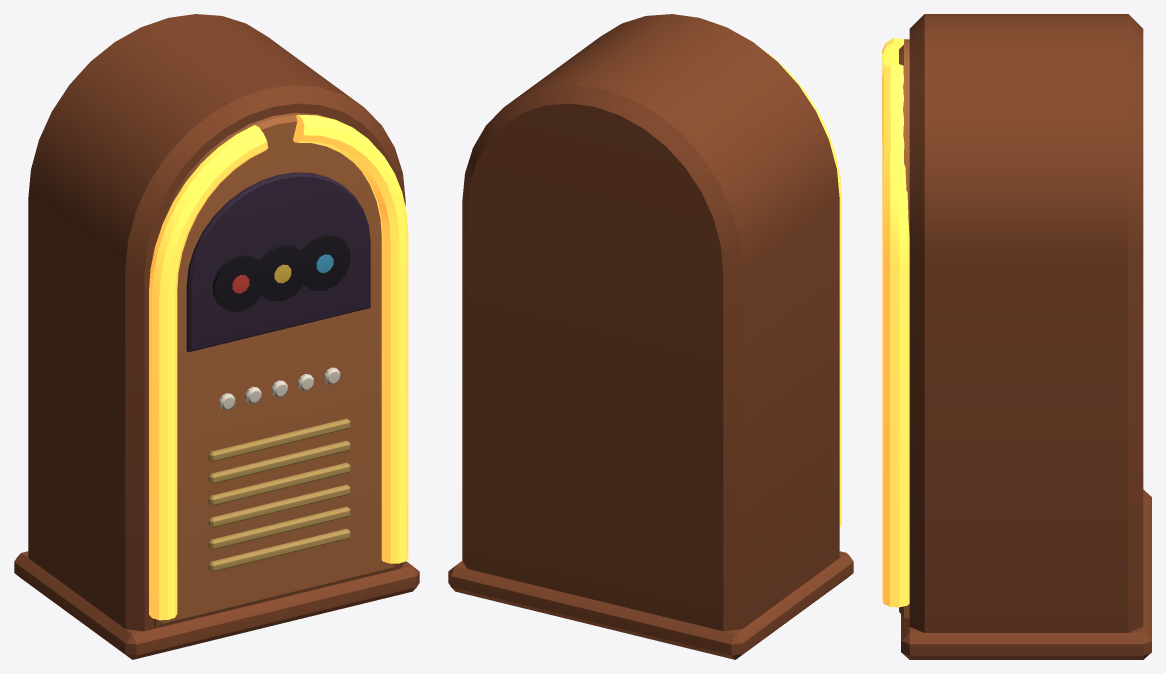
File: jukebox.glb
The picture shows the model from 3 angles, left to right: view 1: azimuth 30°, elevation 25°; view 2: azimuth 150°, elevation 25°; view 3: azimuth 270°, elevation 25°; orthographic projection. The views are drawn at different scales.
Visible parts, largest first — view 1: corpo, frente, luzes; view 2: corpo, luzes; view 3: corpo, luzes.
Part boxes in pixels (x1,y1,x2,y2): corpo: [14, 14, 419, 659]; frente: [186, 172, 370, 571]; luzes: [149, 114, 408, 620]; corpo: [448, 14, 853, 659]; luzes: [762, 49, 841, 526]; corpo: [899, 14, 1151, 659]; luzes: [882, 38, 909, 607].
Size of the model in its own units: 0.84 by 1.45 by 0.6348.
